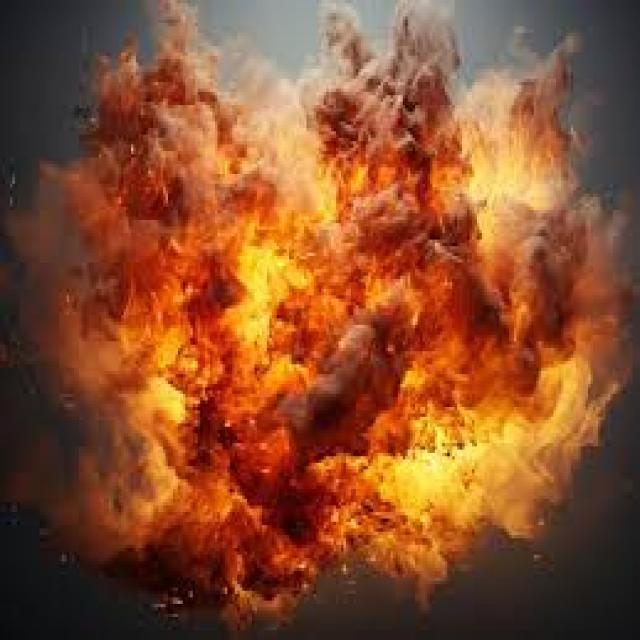fire: (143, 230, 589, 580)
